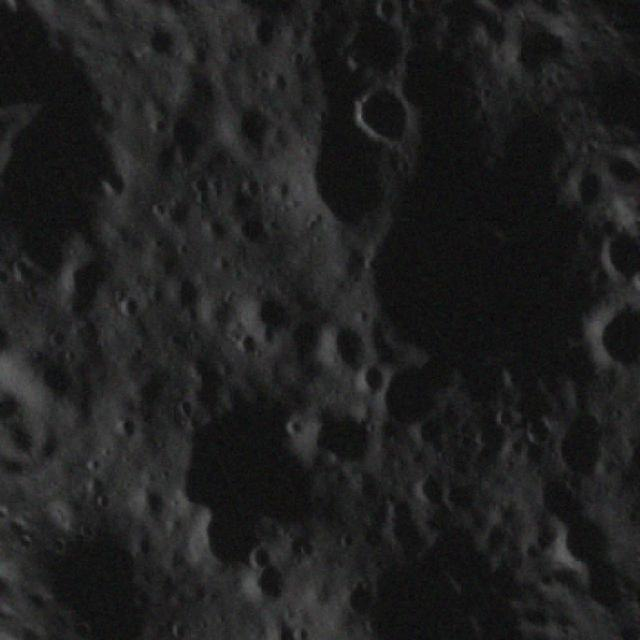crater: (133, 380, 350, 597), (0, 80, 165, 292), (532, 391, 636, 497), (322, 0, 422, 97), (337, 74, 429, 174), (297, 394, 391, 489), (567, 282, 640, 399), (212, 92, 297, 180), (302, 312, 386, 398), (140, 105, 220, 187), (233, 552, 305, 622), (234, 282, 300, 349), (553, 161, 618, 225), (589, 220, 640, 295), (349, 359, 403, 413), (239, 10, 292, 61), (158, 269, 208, 320), (232, 208, 279, 257), (108, 284, 154, 331), (455, 0, 519, 32), (226, 324, 269, 370), (243, 538, 283, 578), (0, 206, 5, 323)
